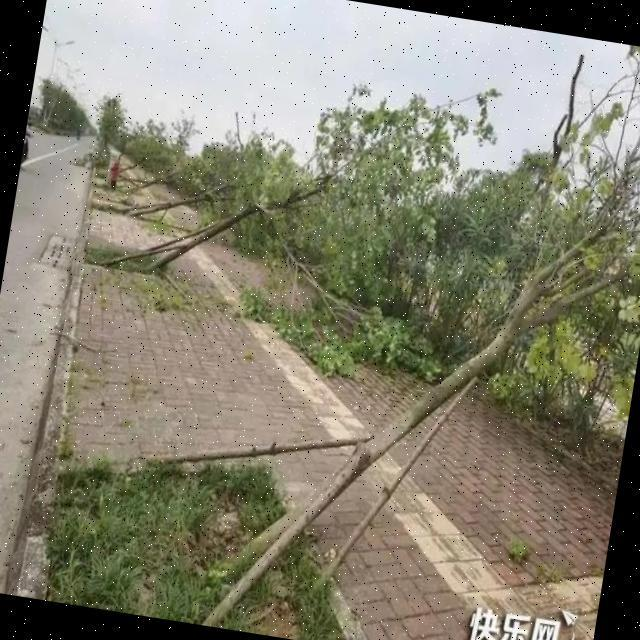fallen_object: (208, 7, 640, 640), (105, 39, 482, 320), (112, 81, 324, 242)
